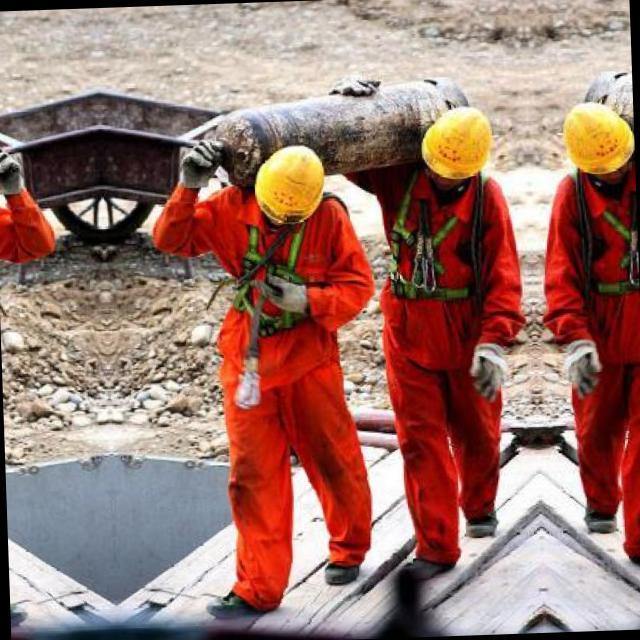helmet: (416, 100, 496, 178), (252, 140, 326, 222), (556, 96, 632, 174)
